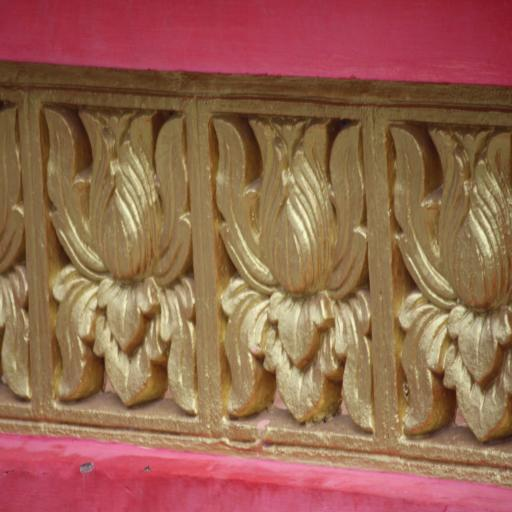la: (210, 101, 375, 434), (40, 93, 201, 415), (390, 112, 512, 438), (0, 94, 29, 402)
